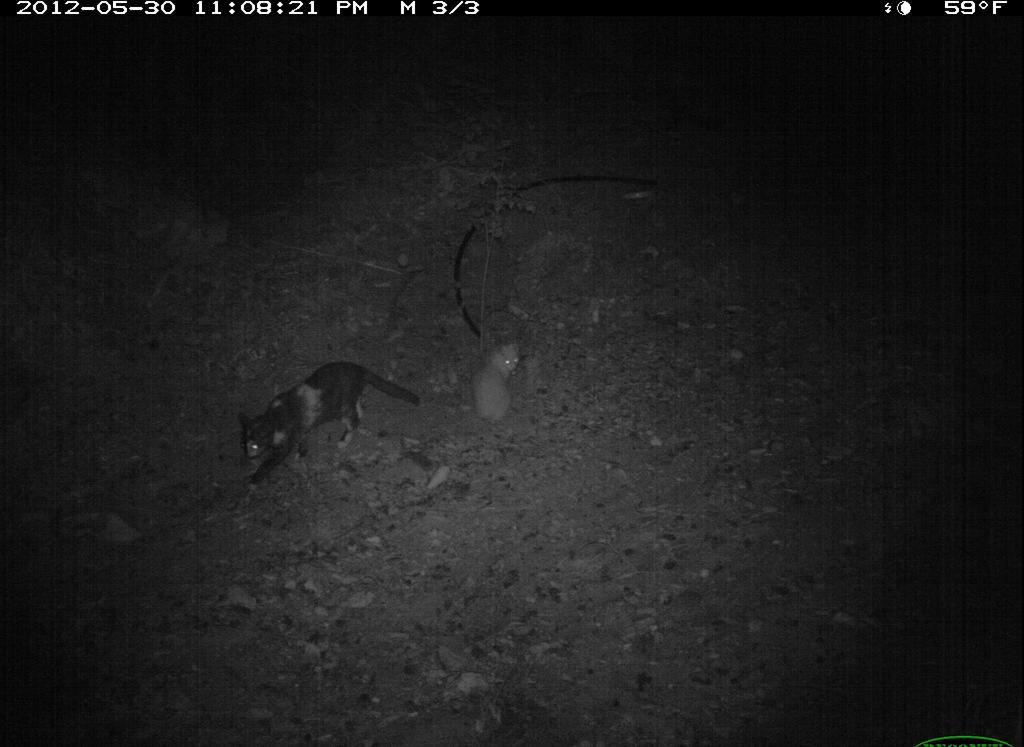cat: (235, 360, 424, 496), (472, 336, 525, 425)
